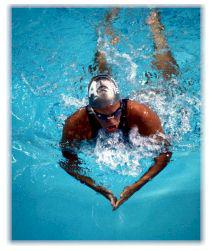human: (59, 11, 174, 208)
